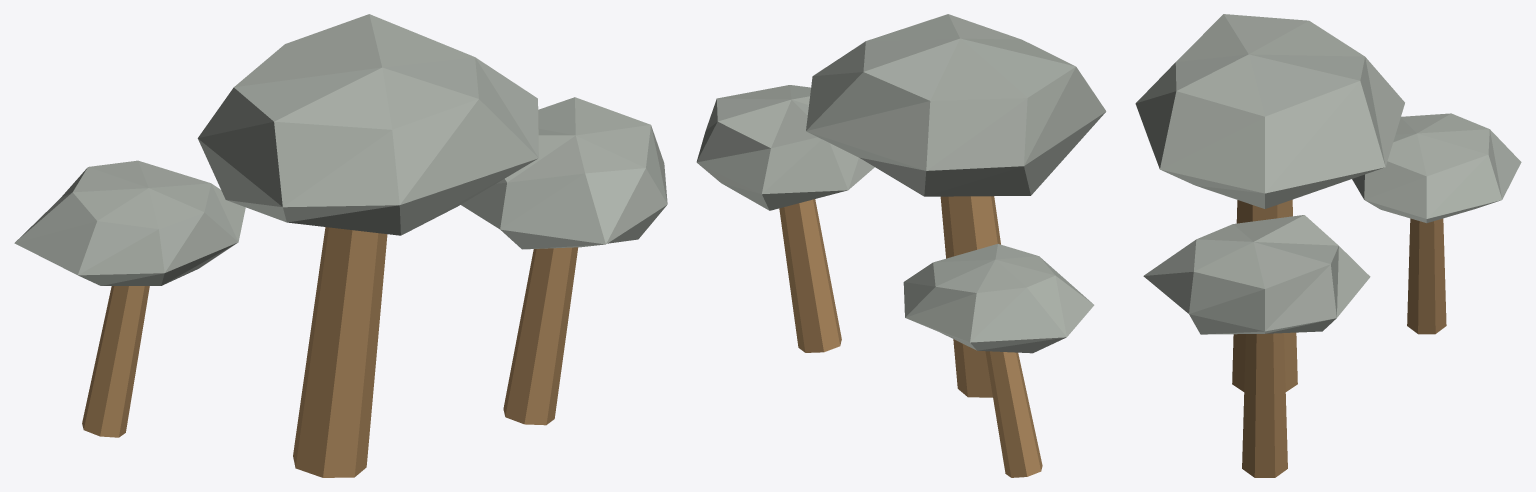
The model's file is fungi.glb.
3 views of the same model, side by side, from view 1: azimuth 30°, elevation 25°; view 2: azimuth 150°, elevation 25°; view 3: azimuth 270°, elevation 25° (orthographic). The views are drawn at different scales.
Parts seen in each view (by area): view 1: Mooncap cluster; view 2: Mooncap cluster; view 3: Mooncap cluster.
Part boxes in pixels (box(x1,y1,x2,y2)): Mooncap cluster: box(14, 14, 667, 477); Mooncap cluster: box(696, 14, 1106, 477); Mooncap cluster: box(1135, 14, 1521, 477).
Size of the model in its own units: 0.4045 by 0.285 by 0.2863.
